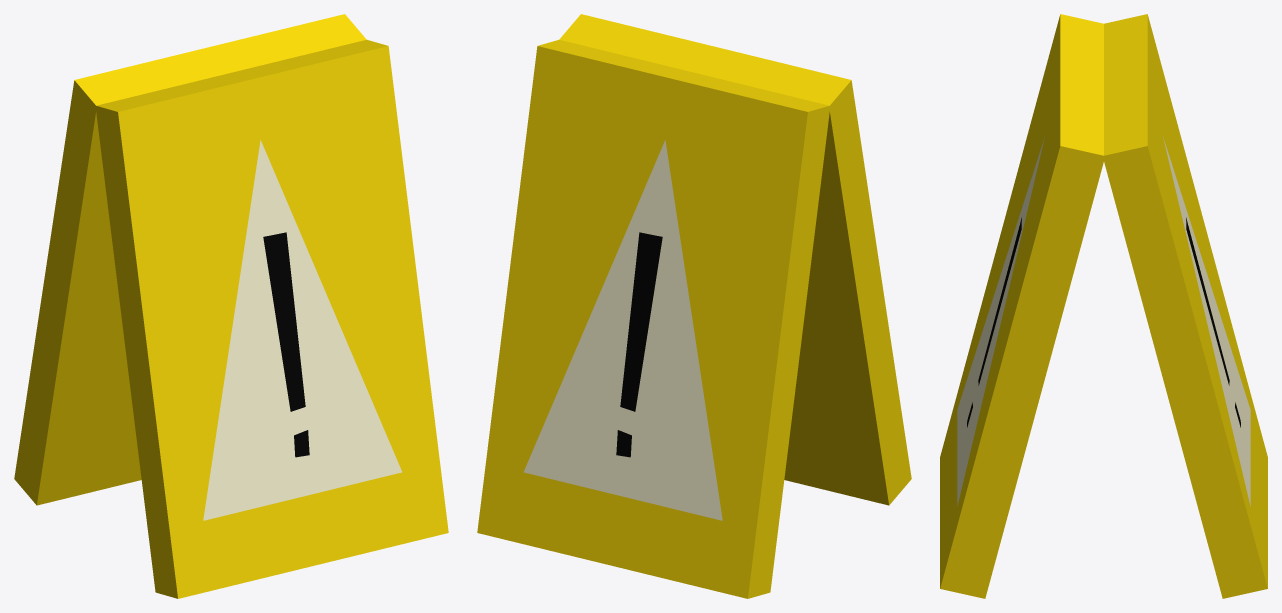
The model's file is floor sign.fbx.
3 renders of one model, left to right at view 1: azimuth 30°, elevation 25°; view 2: azimuth 150°, elevation 25°; view 3: azimuth 270°, elevation 25°, orthographic.
Visible parts, largest first — view 1: sign; view 2: sign; view 3: sign.
Part boxes in pixels (left/top/right/bottom): sign: left=14, top=14, right=448, bottom=598; sign: left=477, top=14, right=911, bottom=598; sign: left=940, top=14, right=1267, bottom=598.
Bounding box in the file's own units: 83.27 × 133 × 87.34.
